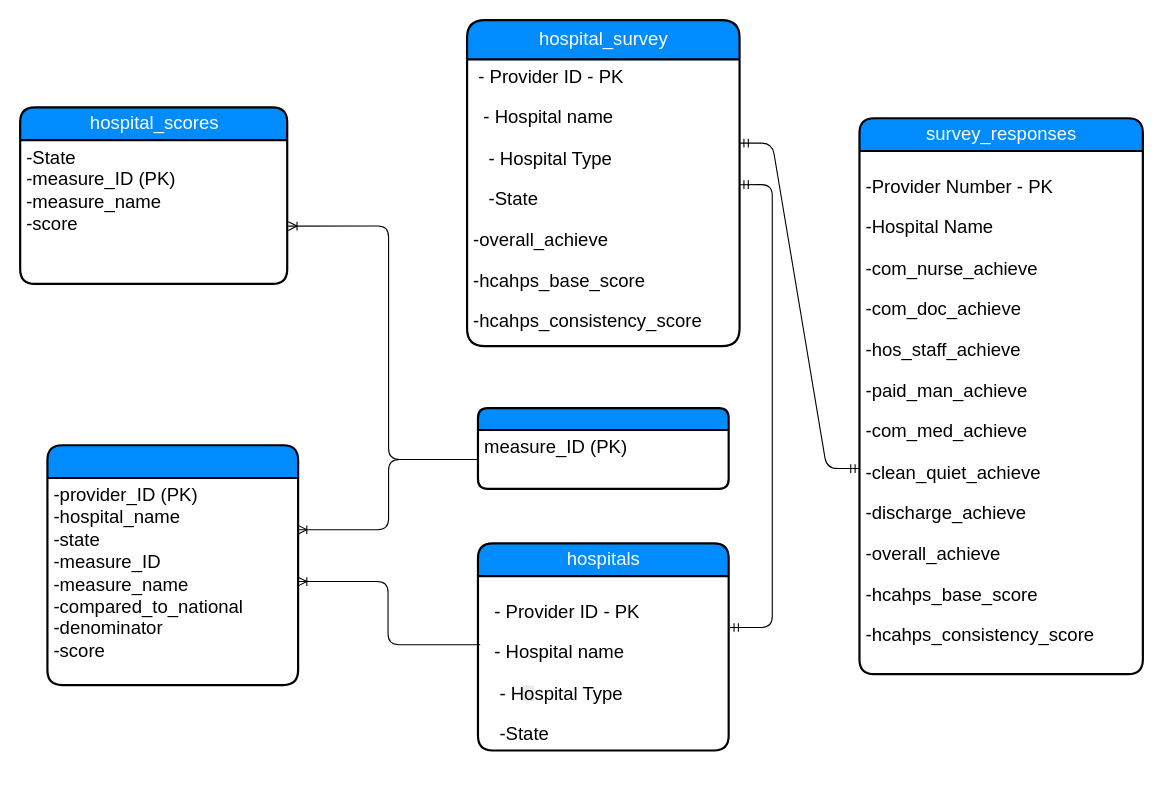
Some shapes in this 1162 by 807 pixel diagram are drawn without their labels. Here are the shapes that lost their labels. From the top down, the box of each, then its label:
(476, 407, 729, 489): hospital_measures
(46, 444, 299, 686): readmissions
